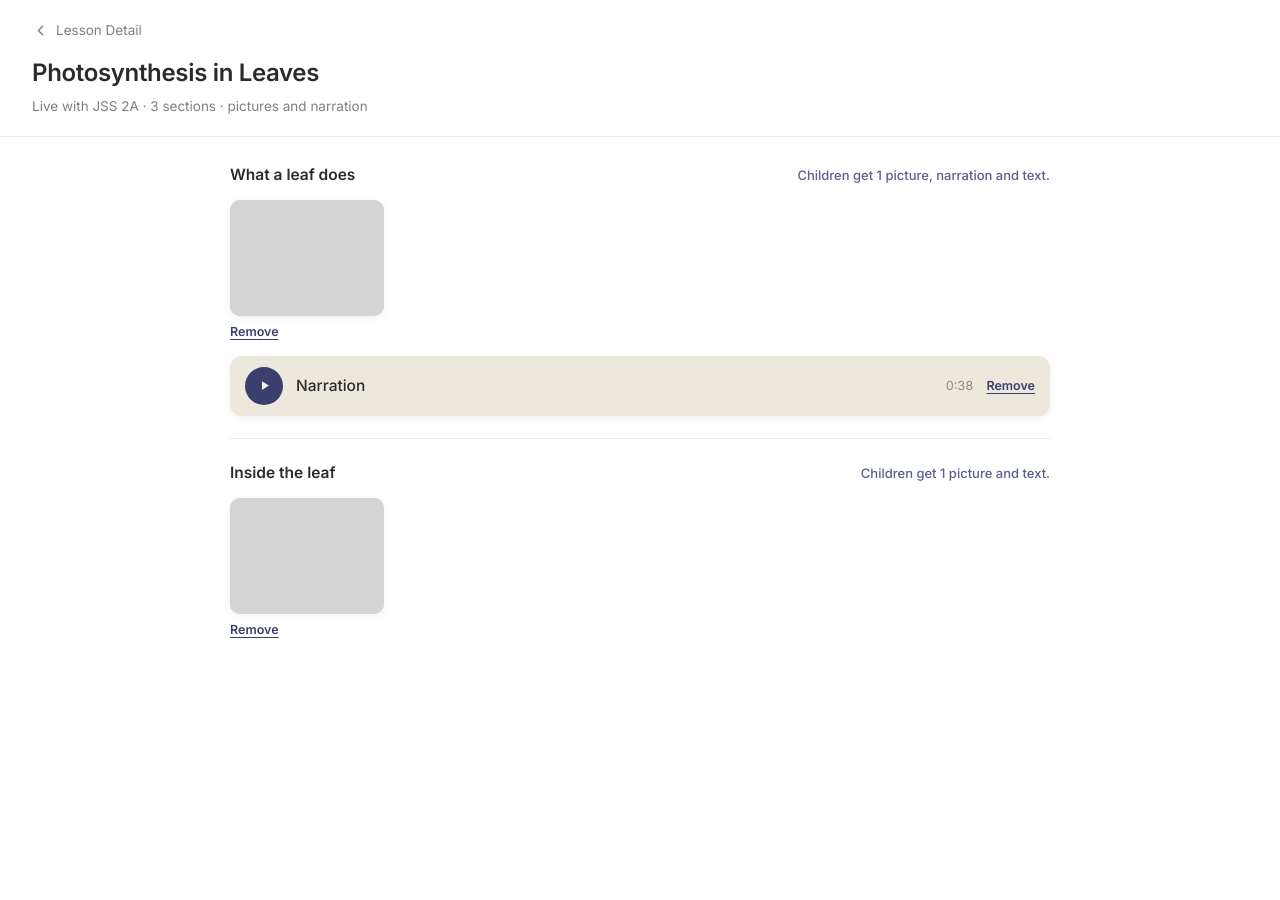
Test: pulling one › puts it back with Undo, using the stored item
Expected: the heading "Photosynthesis in Leaves" is shown, top-left (32, 58), bottom-right (319, 87)
Click the button with aria-label "Remove the picture from What a leaf does" at (254,332), box top-left (230, 323), bottom-right (278, 342)
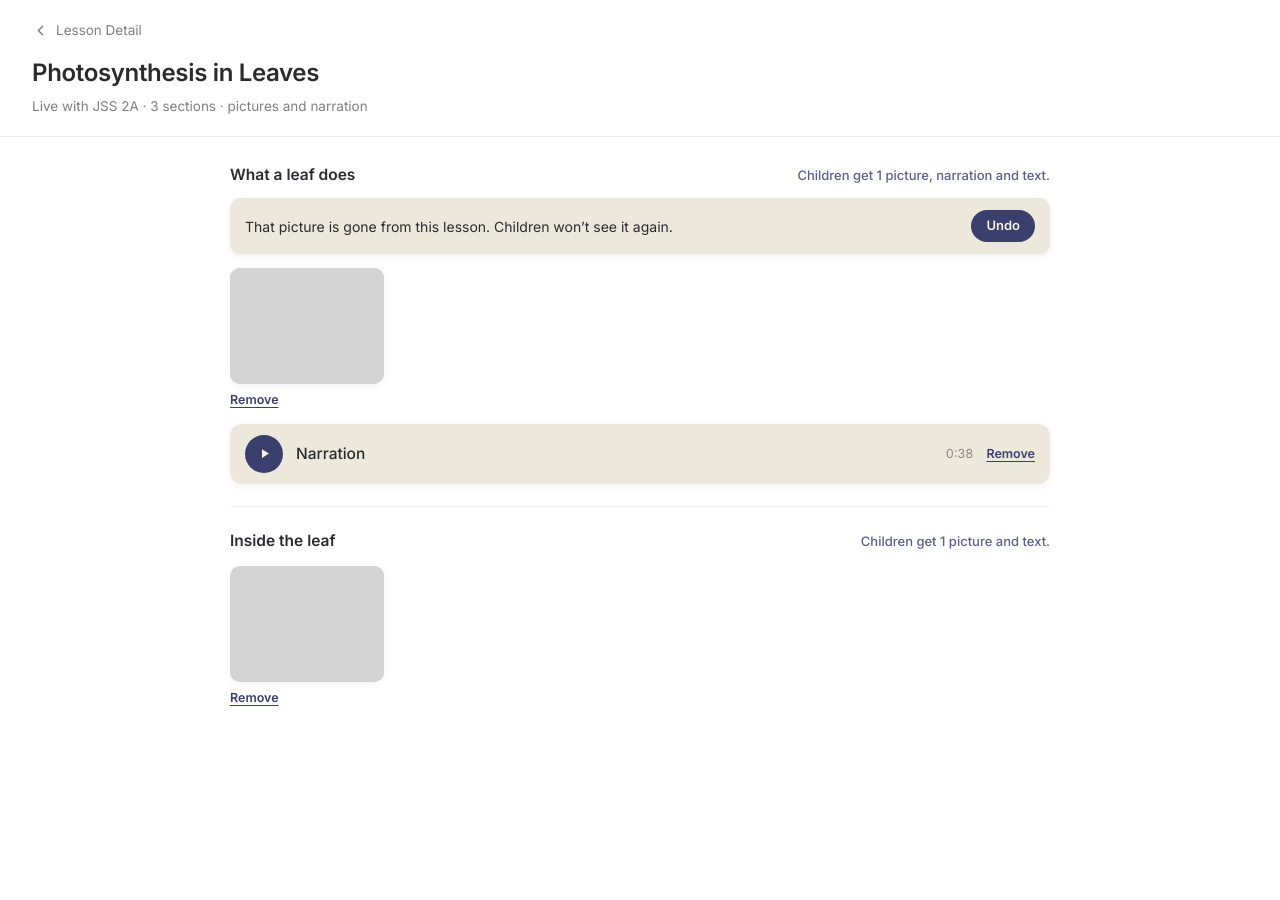
Click the button "Undo" at (1003,226), box top-left (971, 210), bottom-right (1035, 242)
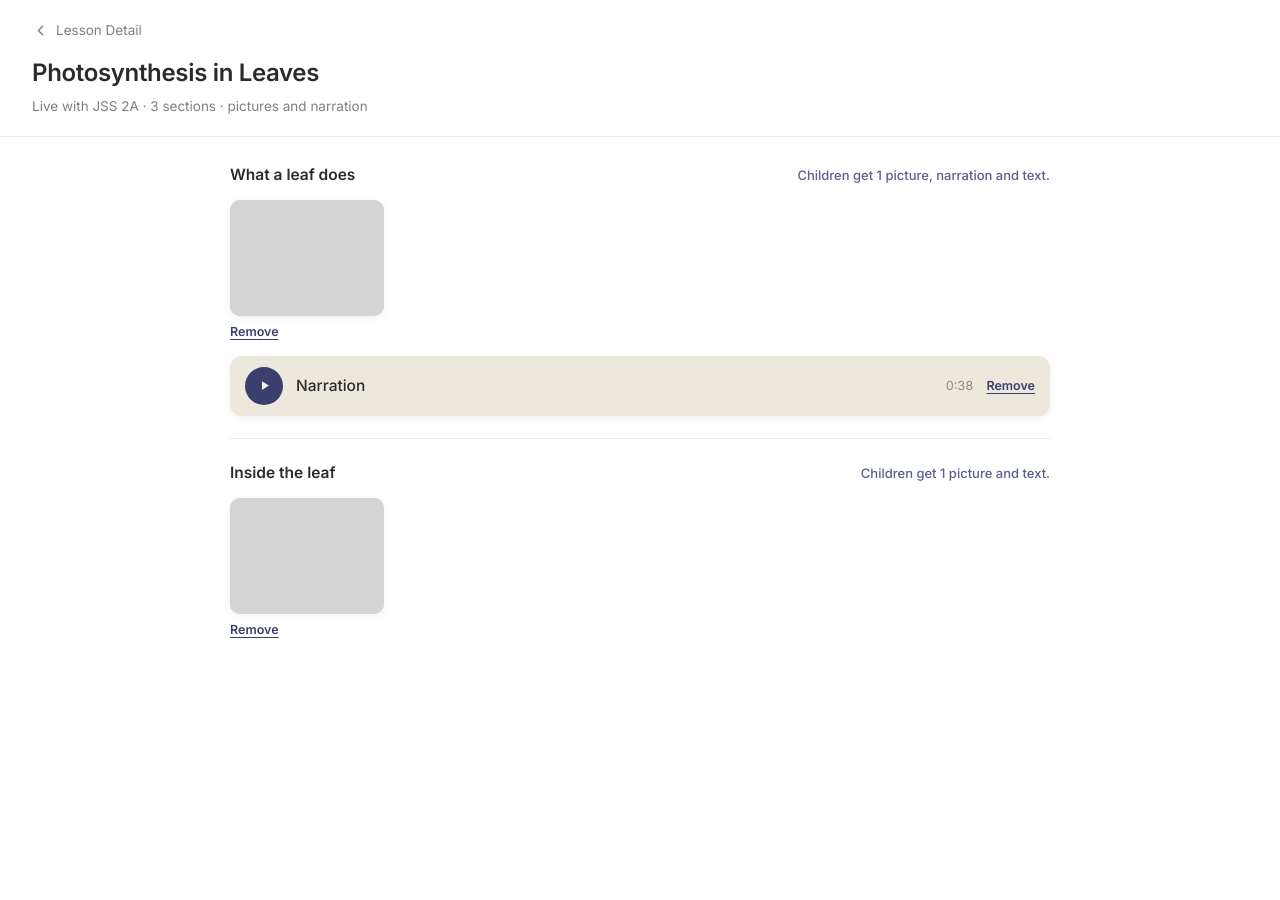
Expected: the button "Undo" is gone
